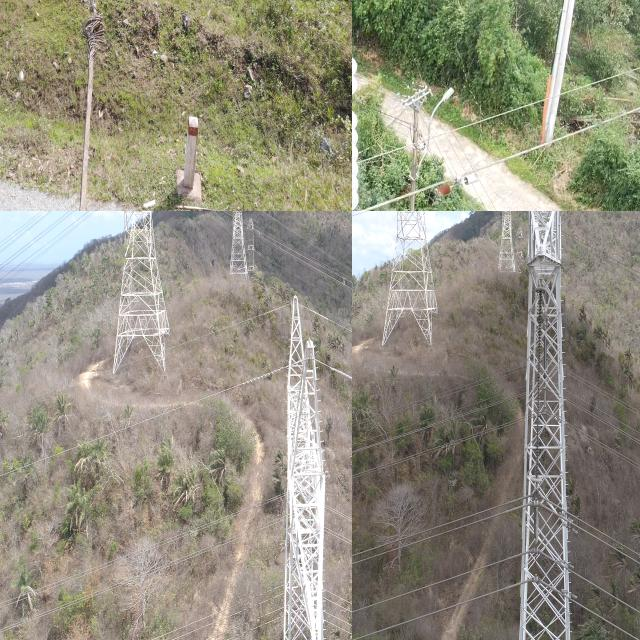杆塔: (510, 211, 585, 640), (285, 288, 329, 640), (378, 211, 445, 349), (116, 211, 170, 375), (228, 211, 247, 278)
正常电缆: (352, 552, 495, 622), (352, 581, 501, 640), (603, 585, 640, 621), (602, 614, 640, 640)
正常绝缘子: (352, 34, 371, 211), (532, 287, 546, 488)
电缆破损: (73, 0, 113, 59)
